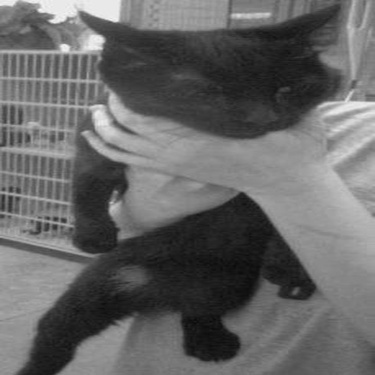cat: (10, 9, 343, 350)
